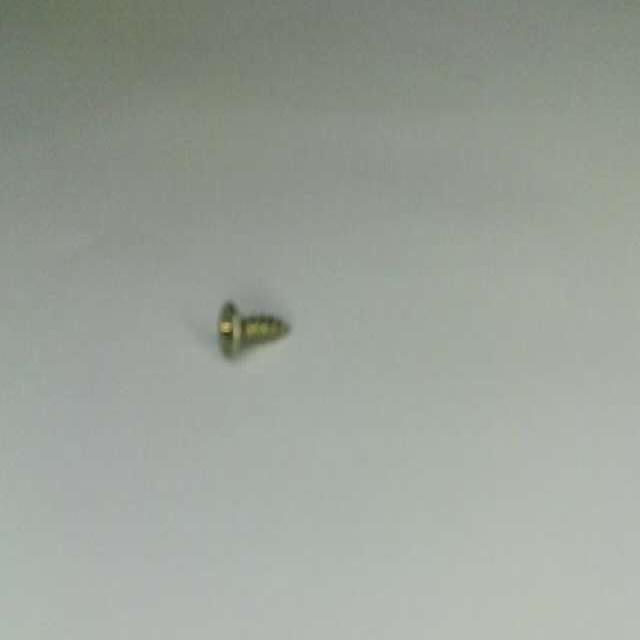Parafuso: (218, 303, 287, 356)
